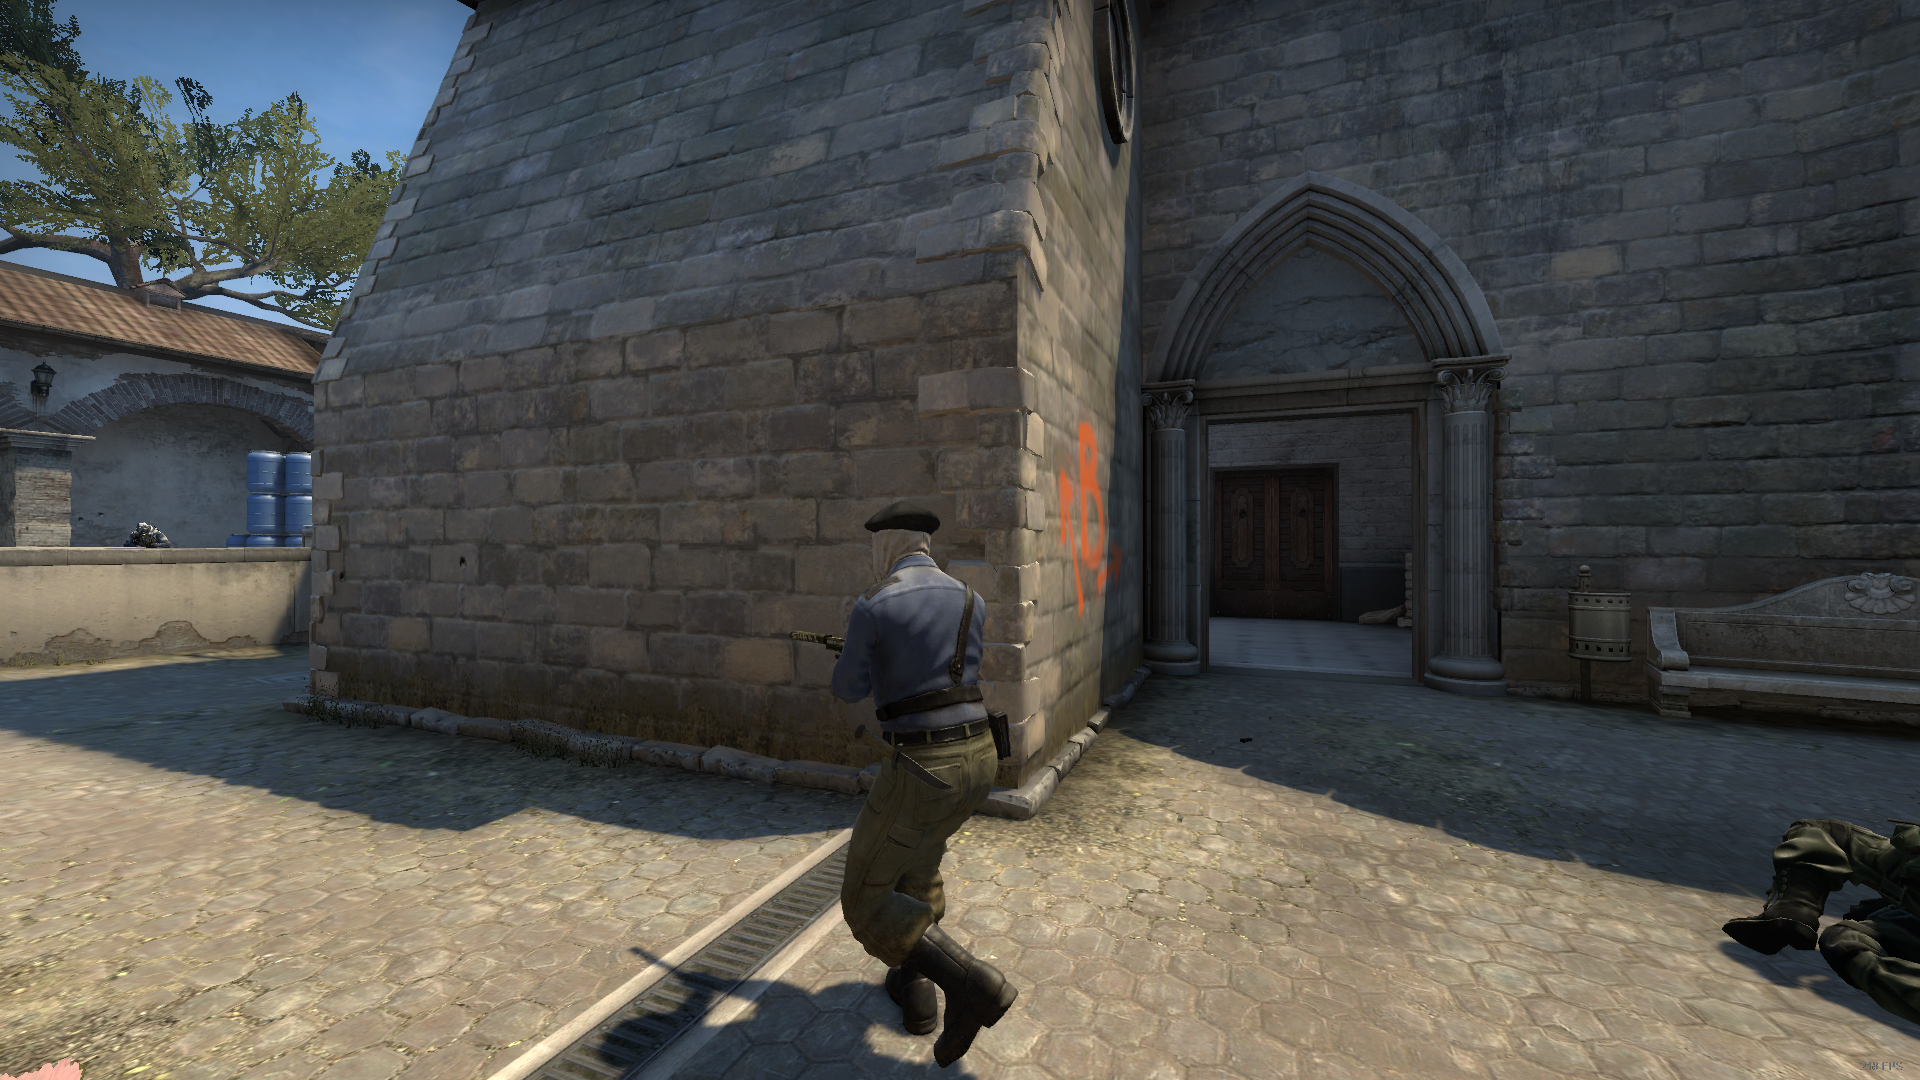t: (765, 497, 1091, 1080)
